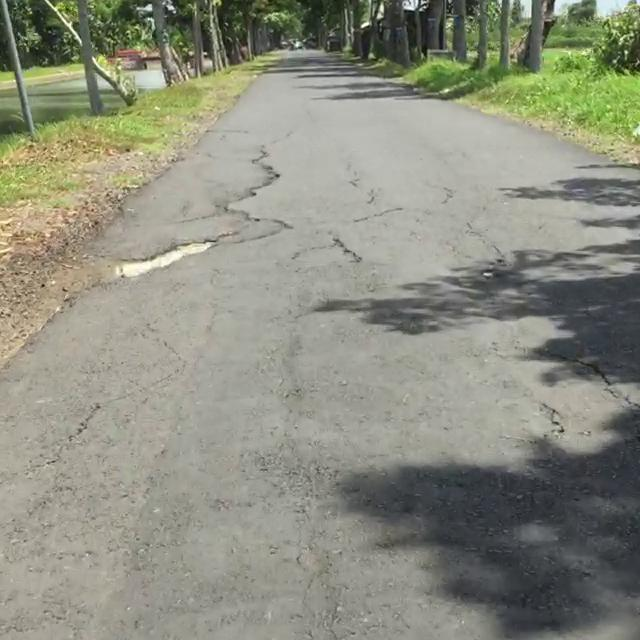retak_memanjang: (0, 388, 118, 640), (500, 322, 640, 422), (210, 121, 309, 217), (324, 139, 374, 211), (323, 233, 366, 269)
